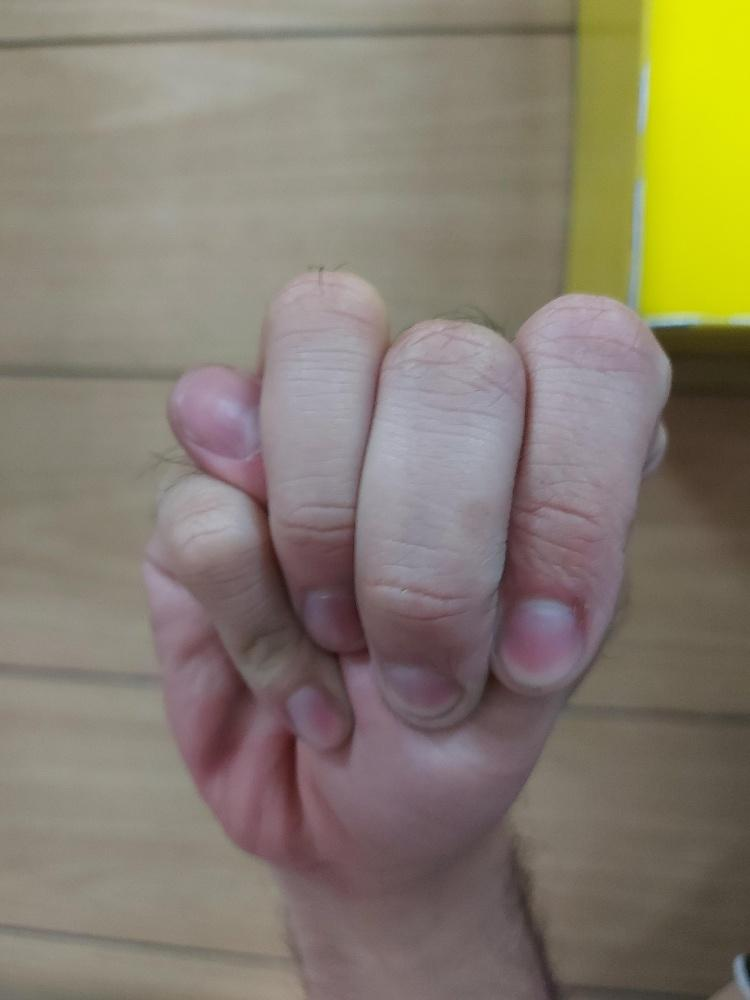m: (137, 267, 671, 883)
